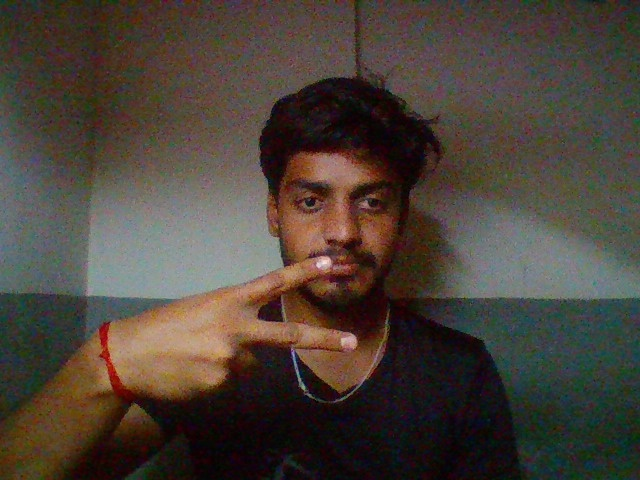F: (67, 248, 377, 397)
